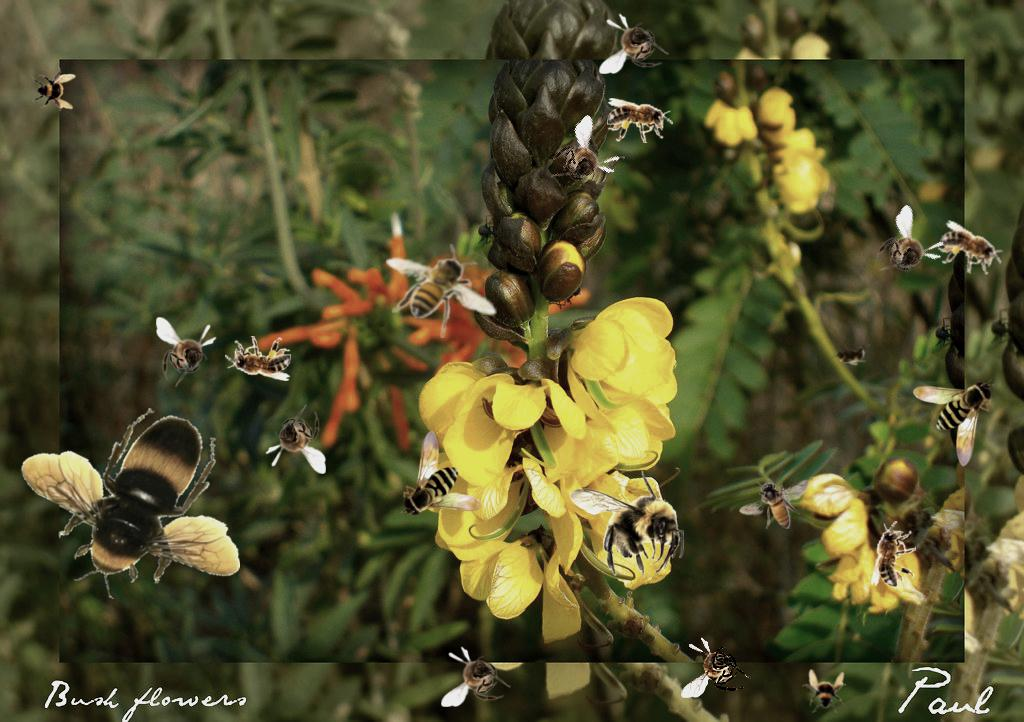Bee: (20, 408, 240, 599), (569, 470, 684, 577), (386, 244, 497, 338), (862, 203, 955, 297), (537, 113, 630, 207), (913, 379, 995, 467), (400, 430, 482, 518), (932, 218, 1010, 283), (681, 637, 751, 698), (599, 13, 669, 74), (156, 317, 217, 387), (265, 404, 326, 474), (441, 646, 511, 707), (739, 479, 810, 529), (607, 98, 673, 143), (225, 336, 291, 381), (871, 521, 916, 587), (32, 67, 76, 111), (802, 669, 846, 713), (830, 344, 870, 366)
